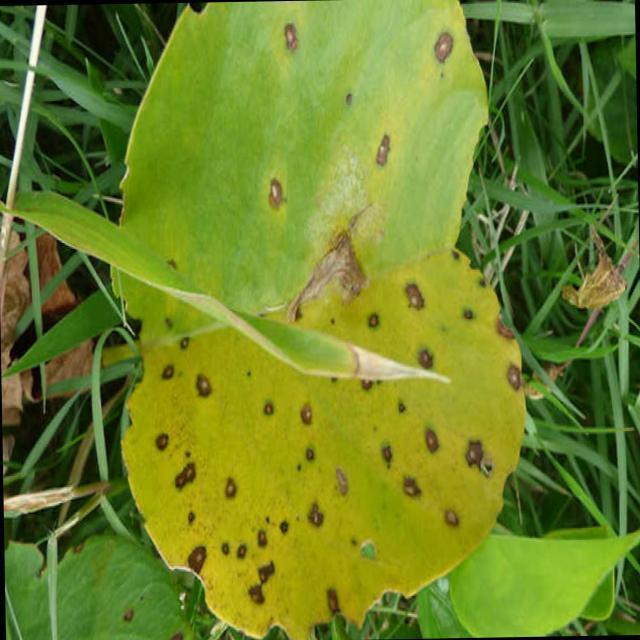Bacterial Spot: (146, 266, 498, 607), (256, 10, 462, 226)
